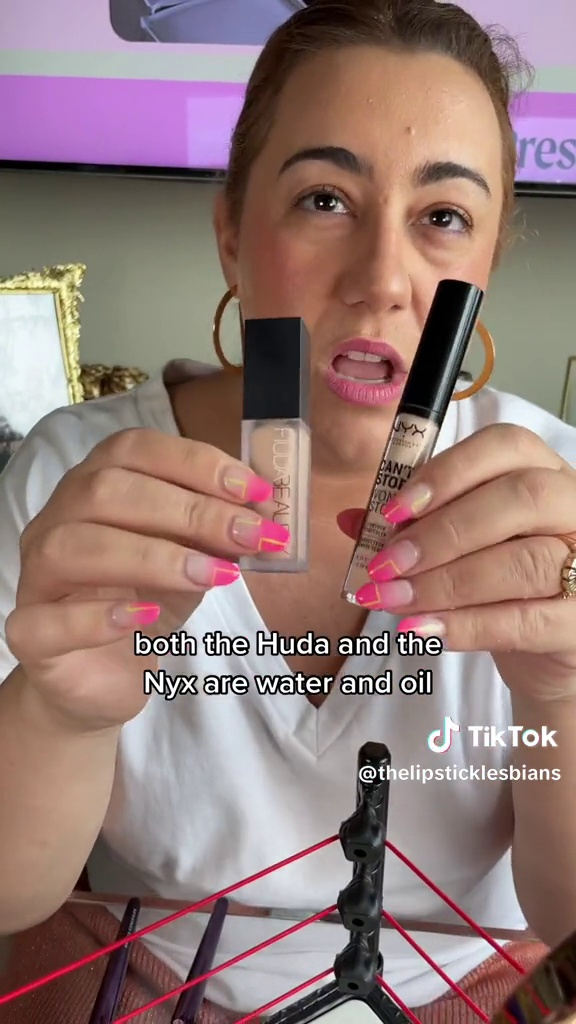train' :'yolo_data/train/images',: (330, 272, 496, 617), (225, 304, 316, 588)
